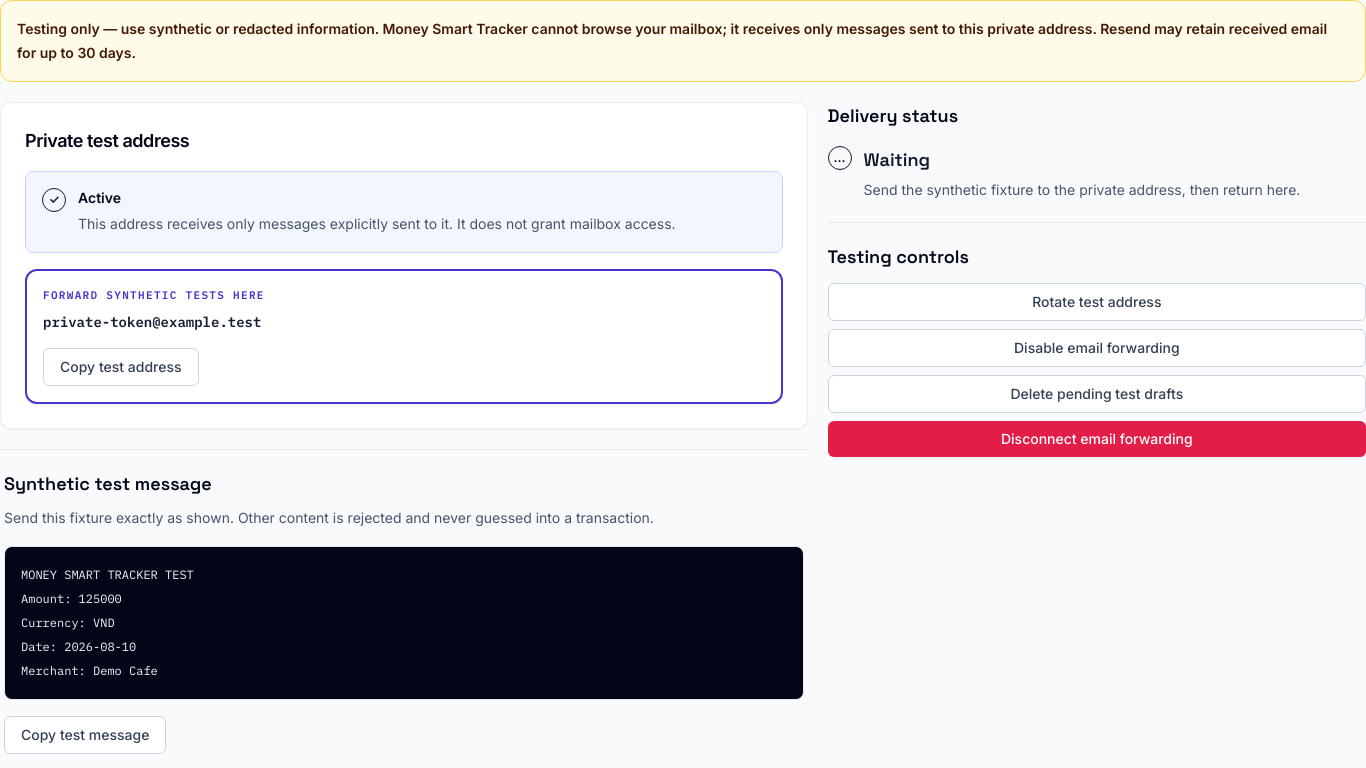
Test: EmailSetupPanel confirmations › shows the exact effect before Rotate test address
This screenshot has width=1366, height=768.
Click the button "Rotate test address".
click(1097, 302)  # box x1=828 y1=283 x2=1365 y2=321
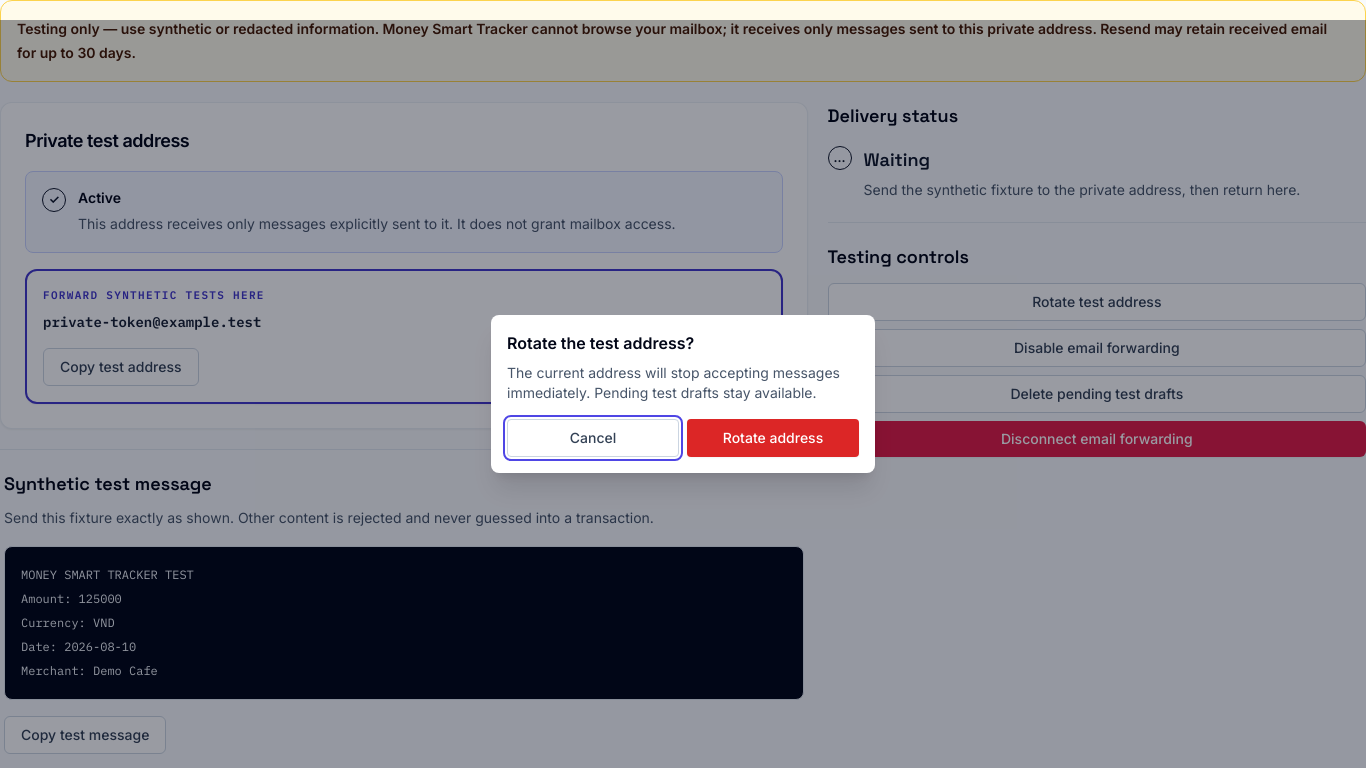
Expected: the text "The current address will stop accepting messages immediately. Pending test drafts stay available." is shown, x1=507 y1=364 x2=840 y2=401
Expected: the button "Rotate address" is shown, x1=687 y1=419 x2=859 y2=457
